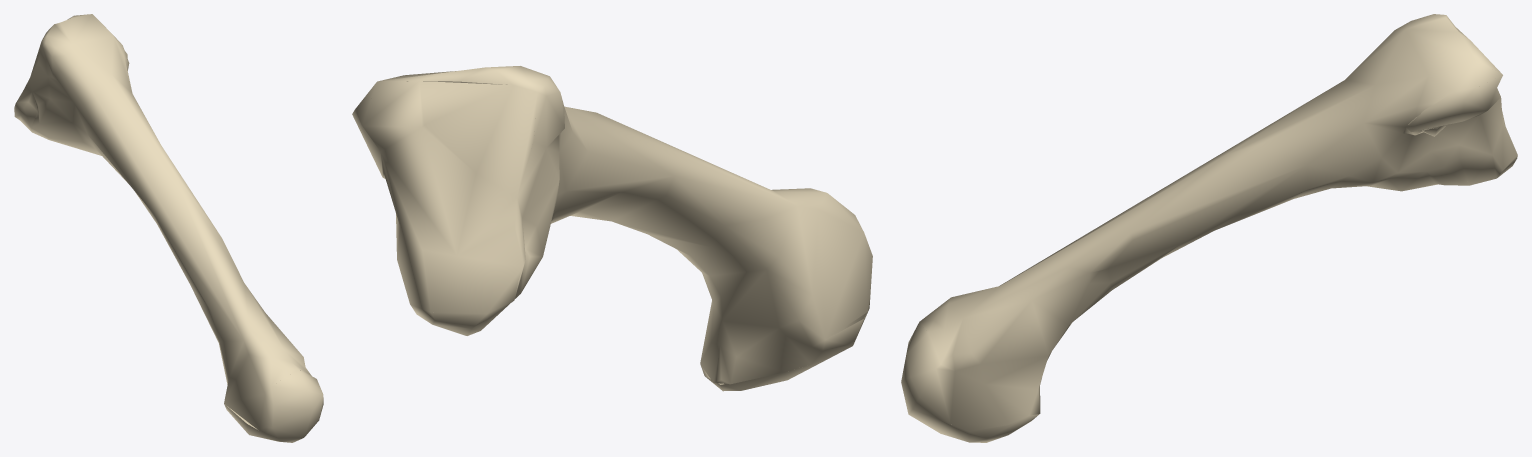
Rendered from esqueleto-second-metatarsal-bone-l.glb.
3 views of the same model, side by side, from view 1: azimuth 30°, elevation 25°; view 2: azimuth 150°, elevation 25°; view 3: azimuth 270°, elevation 25° (orthographic). The views are drawn at different scales.
Visible parts, largest first — view 1: Second metatarsal bone.l; view 2: Second metatarsal bone.l; view 3: Second metatarsal bone.l.
Part boxes in pixels (box(x1,y1,x2,y2)): Second metatarsal bone.l: box(14, 14, 323, 442); Second metatarsal bone.l: box(352, 66, 872, 391); Second metatarsal bone.l: box(901, 14, 1517, 442).
Size of the model in its own units: 0.0174 by 0.0499 by 0.0705.
